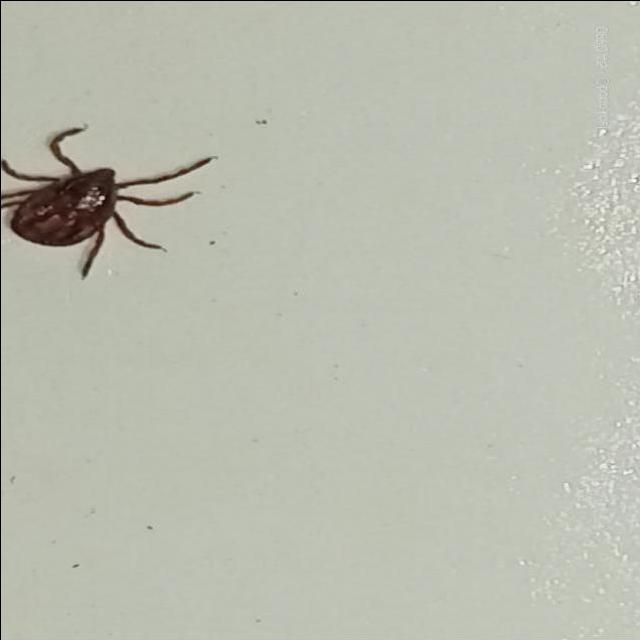Rhipicephalus Sanguineus-M: (7, 125, 219, 279)
